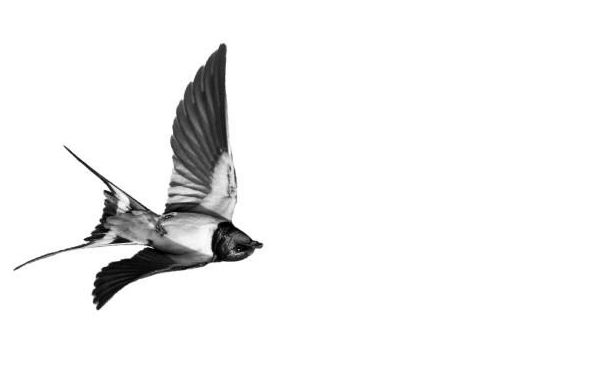Bird: (13, 38, 265, 315)
